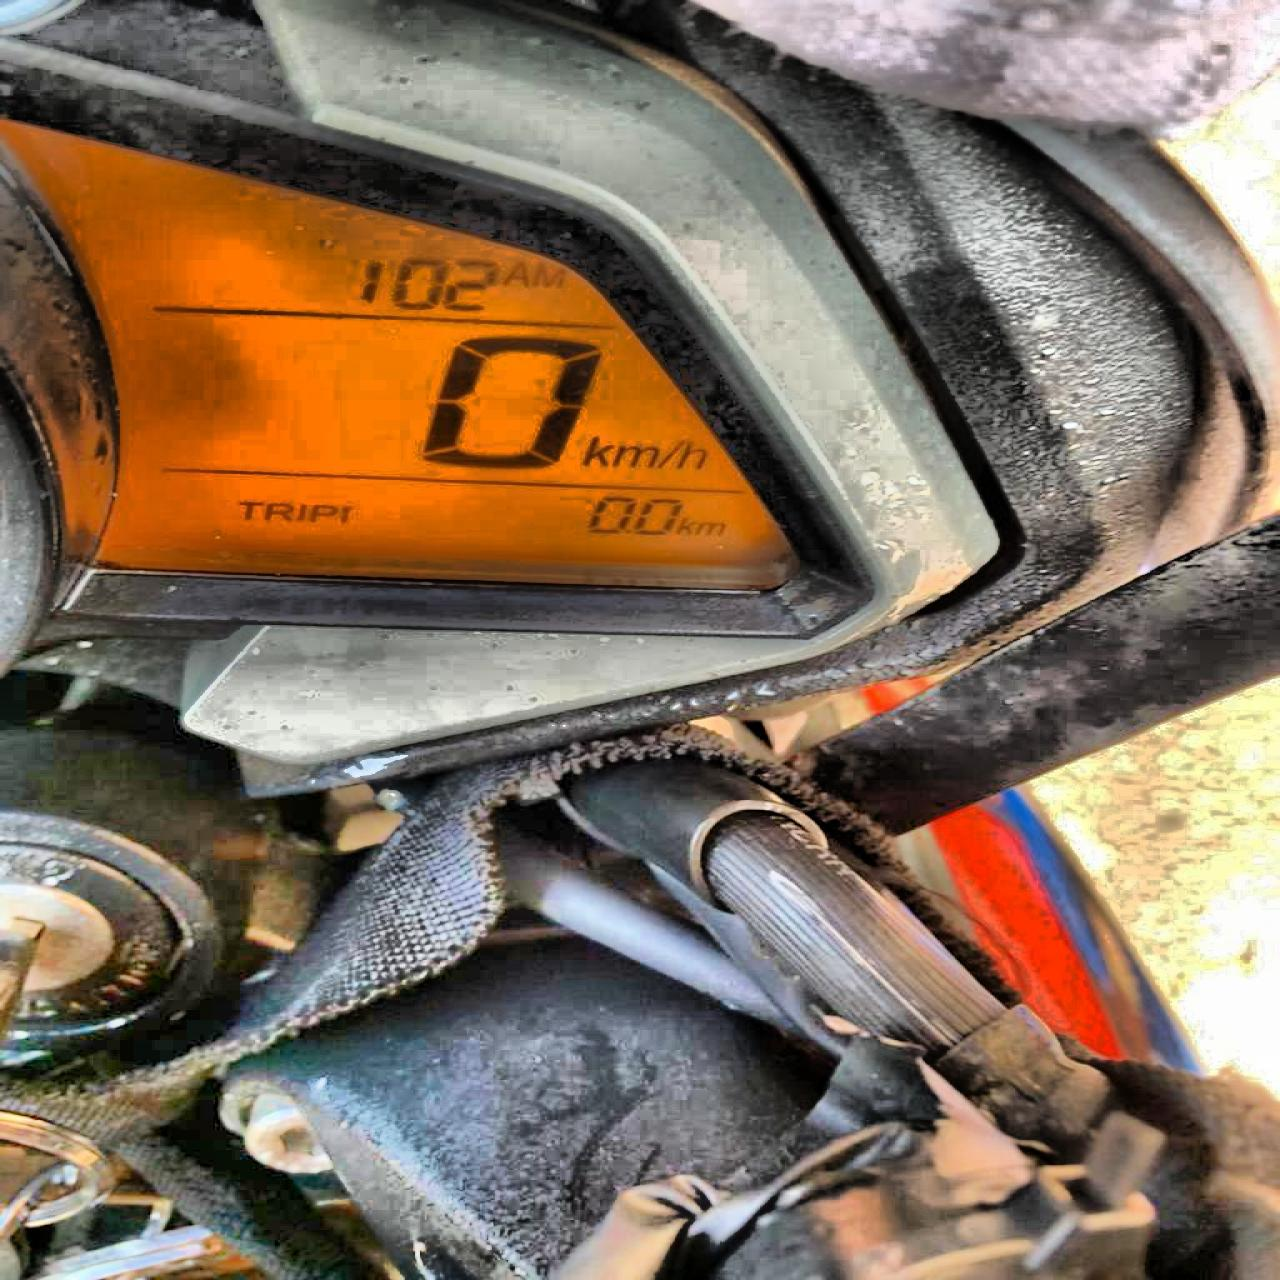-: (622, 527, 632, 535)
0: (417, 332, 600, 470), (388, 254, 445, 311), (584, 494, 634, 535), (634, 496, 678, 536)
1: (354, 256, 384, 305), (337, 504, 350, 524)
2: (445, 256, 497, 312)
X: (612, 441, 656, 469), (582, 433, 612, 468), (530, 260, 565, 288), (658, 436, 682, 469), (676, 441, 702, 469), (502, 259, 528, 286), (262, 502, 293, 520), (308, 502, 335, 522), (235, 500, 260, 519), (697, 520, 723, 535), (675, 515, 693, 534), (295, 501, 307, 520)
odometer: (0, 111, 893, 602)
